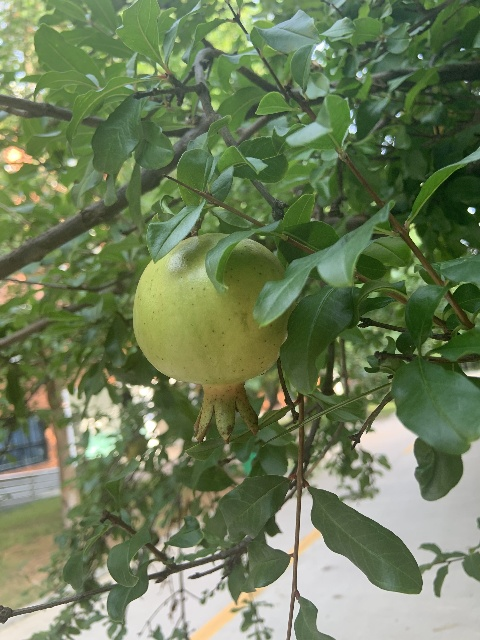mid-growth: (133, 231, 292, 444)
